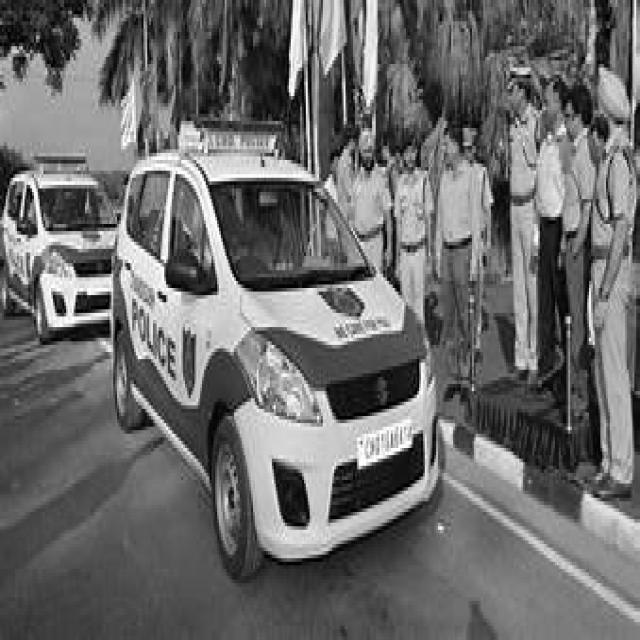Car: (4, 158, 440, 578)
